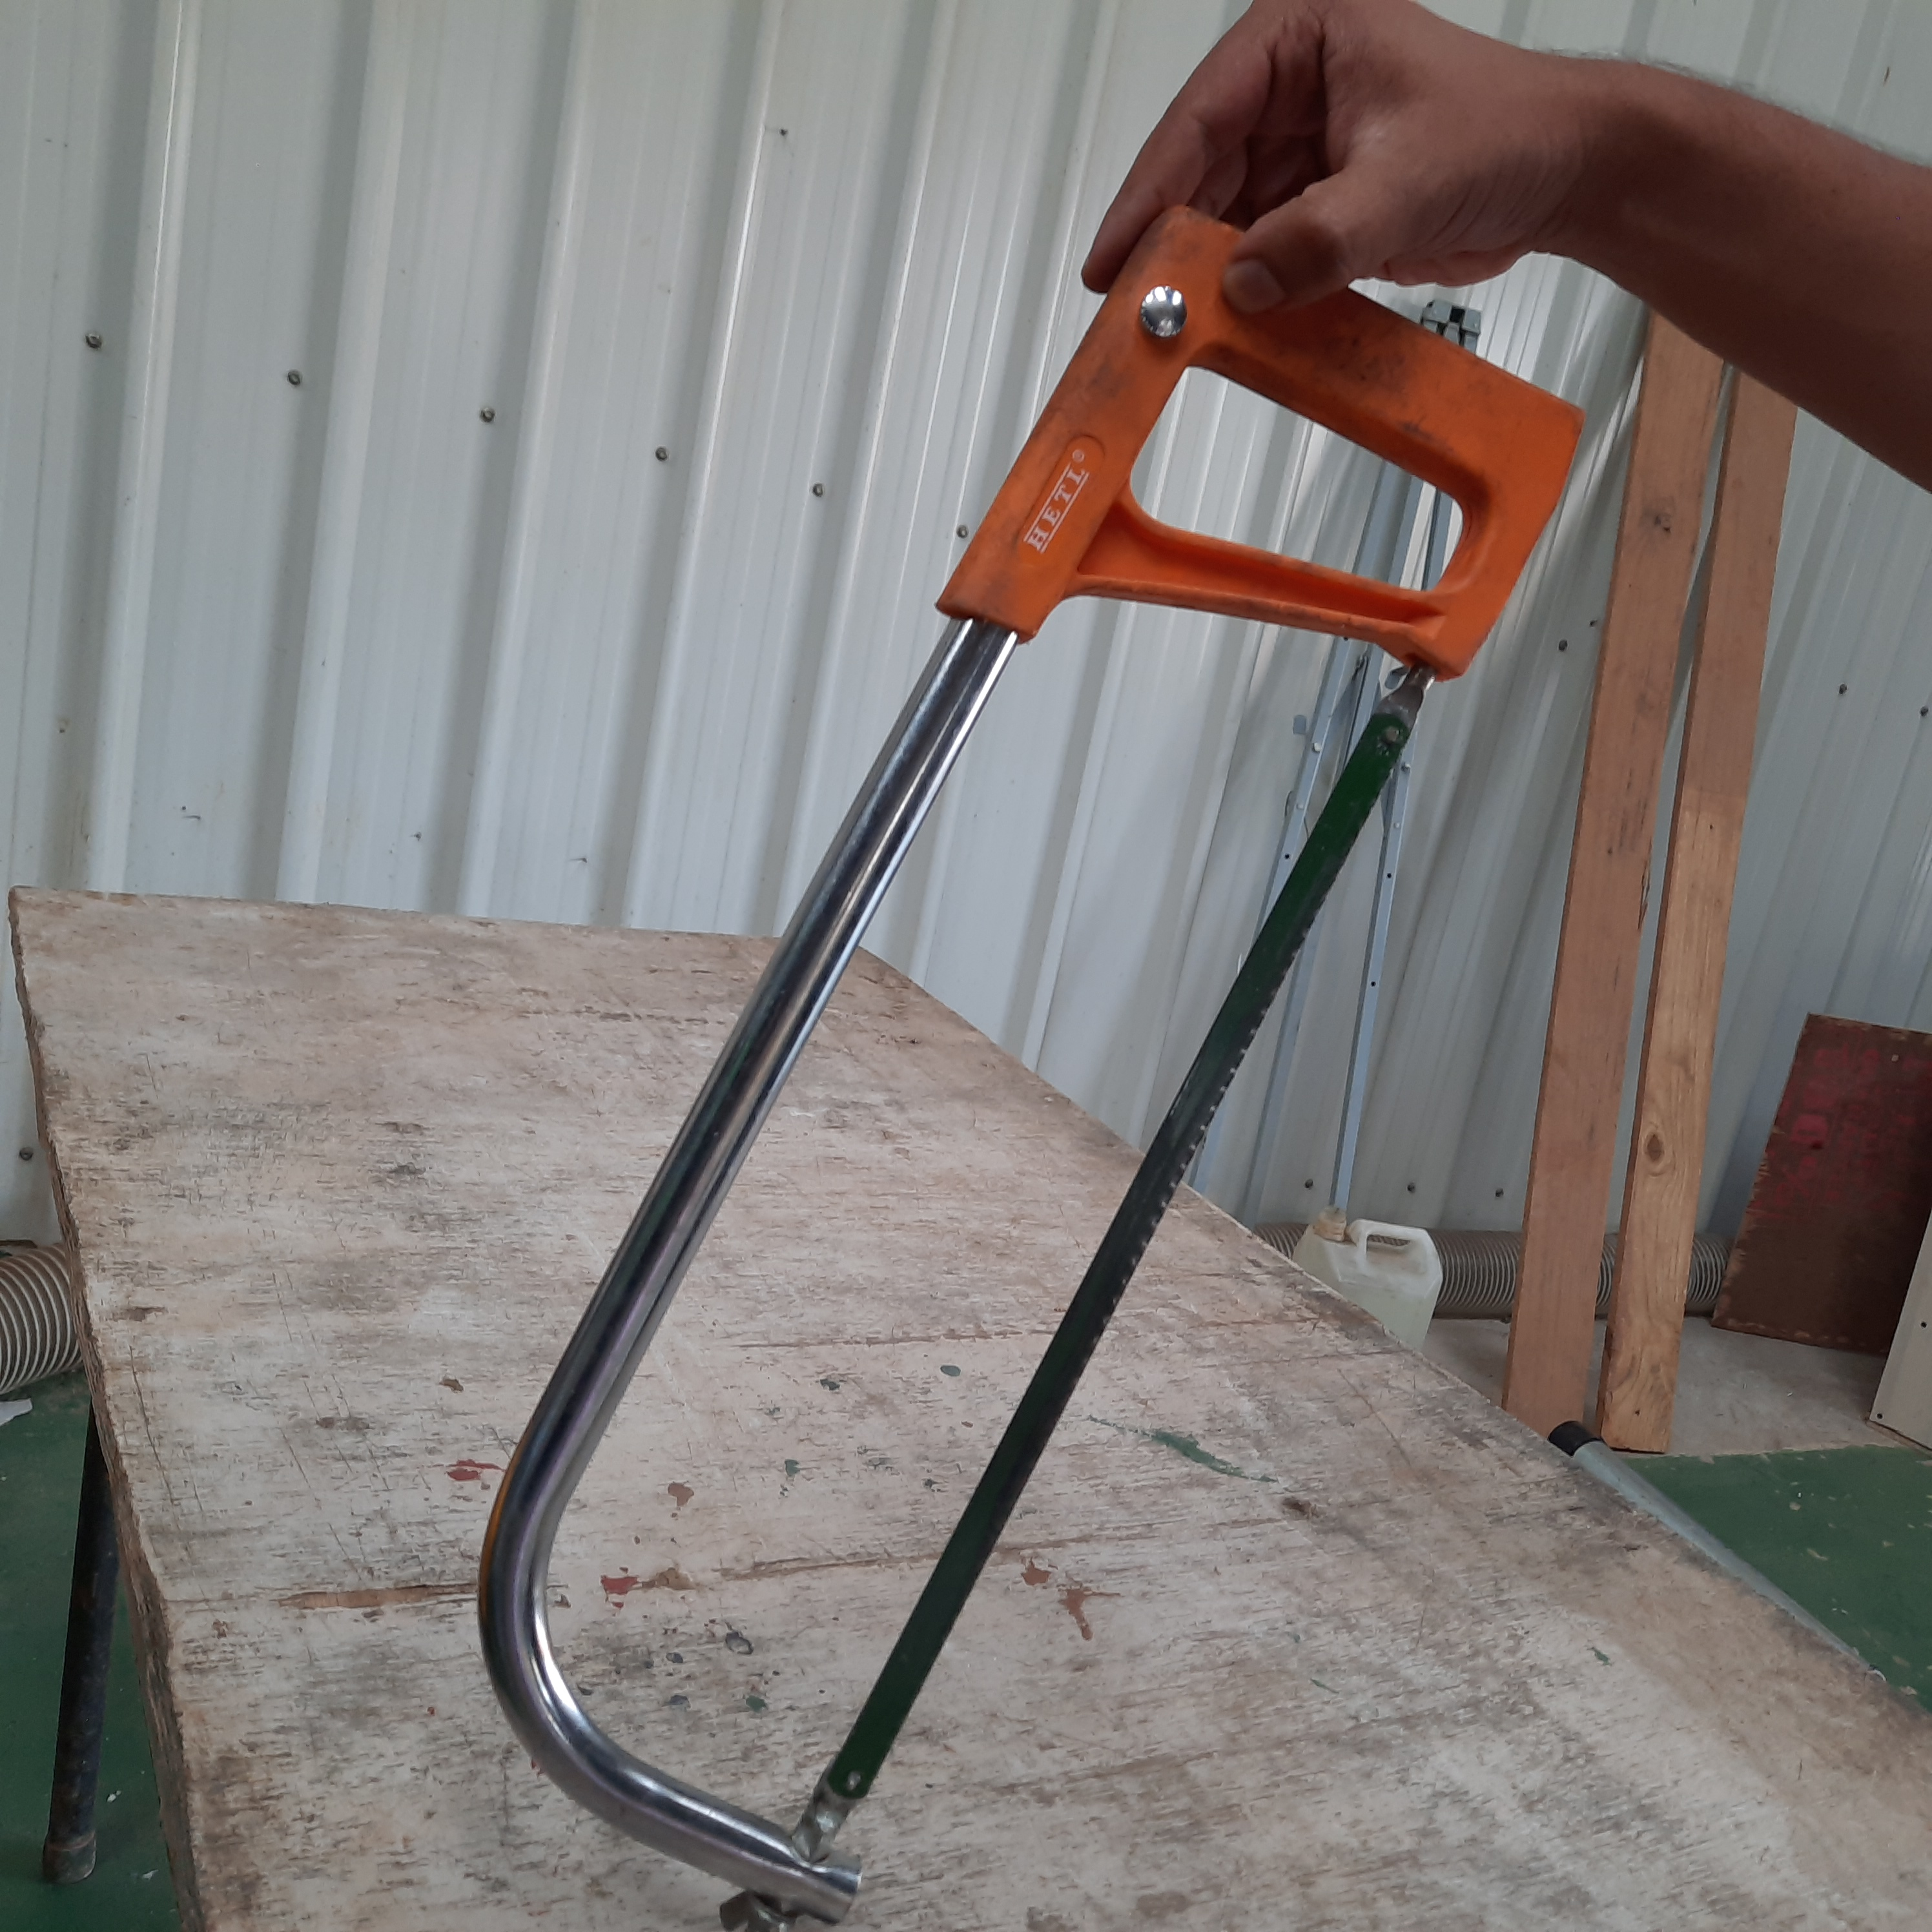Hexaframe: (430, 193, 1610, 1932)
